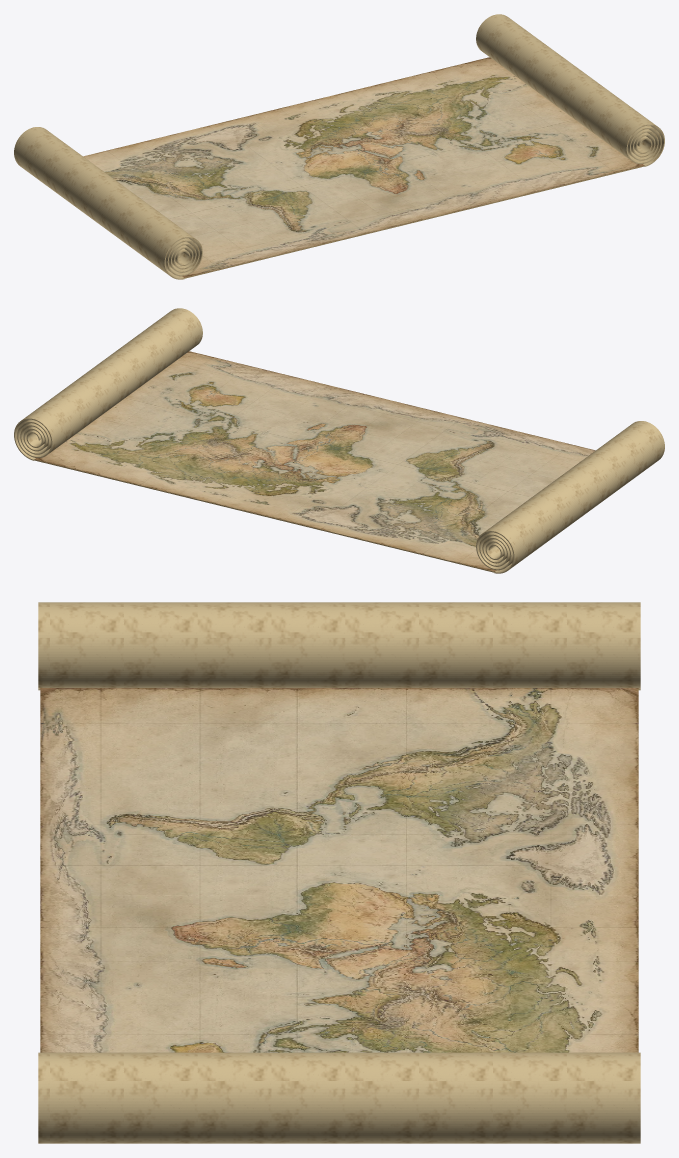
The model's file is world-map.glb.
3 renders of one model, top to bottom at view 1: azimuth 30°, elevation 25°; view 2: azimuth 150°, elevation 25°; view 3: azimuth 270°, elevation 25°, orthographic. The views are drawn at different scales.
Parts seen in each view (by area): view 1: map_face, map_sheet; view 2: map_face, map_sheet; view 3: map_face, map_sheet.
Boxes of the visible parts, x1,y1,x2,y2 form: map_face: (83,57,644,277); map_sheet: (14,14,664,279); map_face: (34,351,595,571); map_sheet: (14,308,664,573); map_face: (40,688,638,1052); map_sheet: (38,602,640,1143).
Size of the model in its own units: 1.74 by 0.1385 by 0.9064.
Materials: 3 (3 with a texture image).
